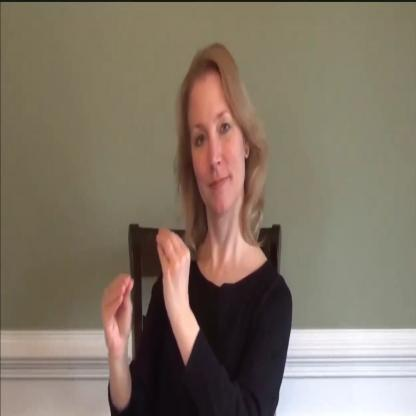Fix: (90, 217, 202, 367)
